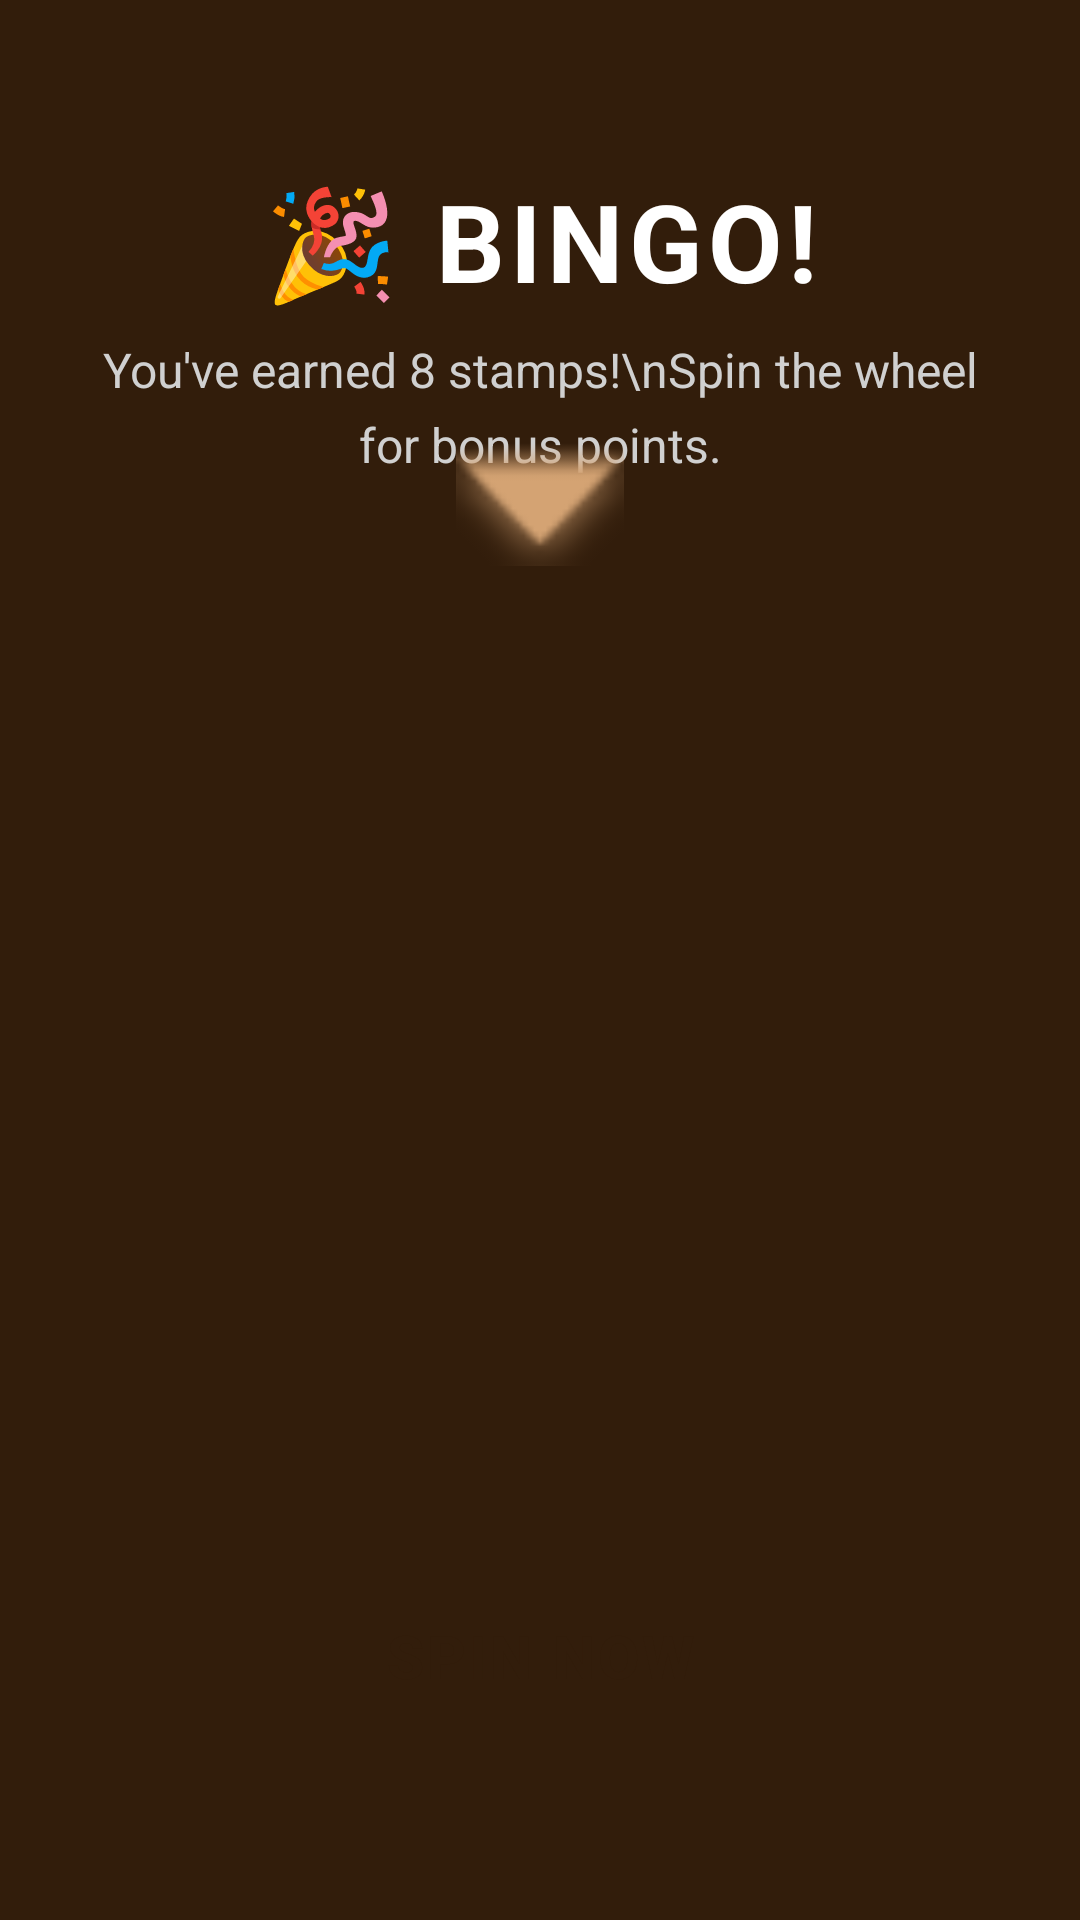

Locate icon controls on the screen. Image size 1080×1920, boxes as (x1, y1, x2, y2).
arrow down float: (456, 437, 624, 555)
